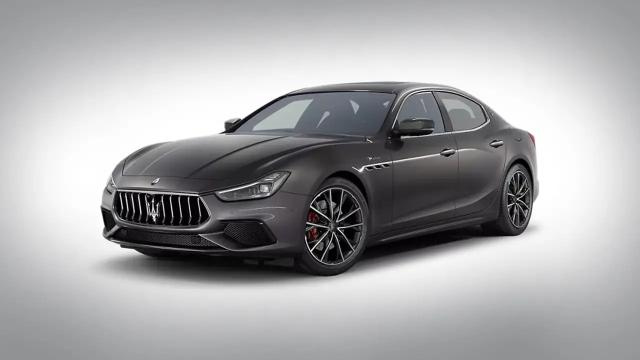maserati: (100, 82, 540, 274)
